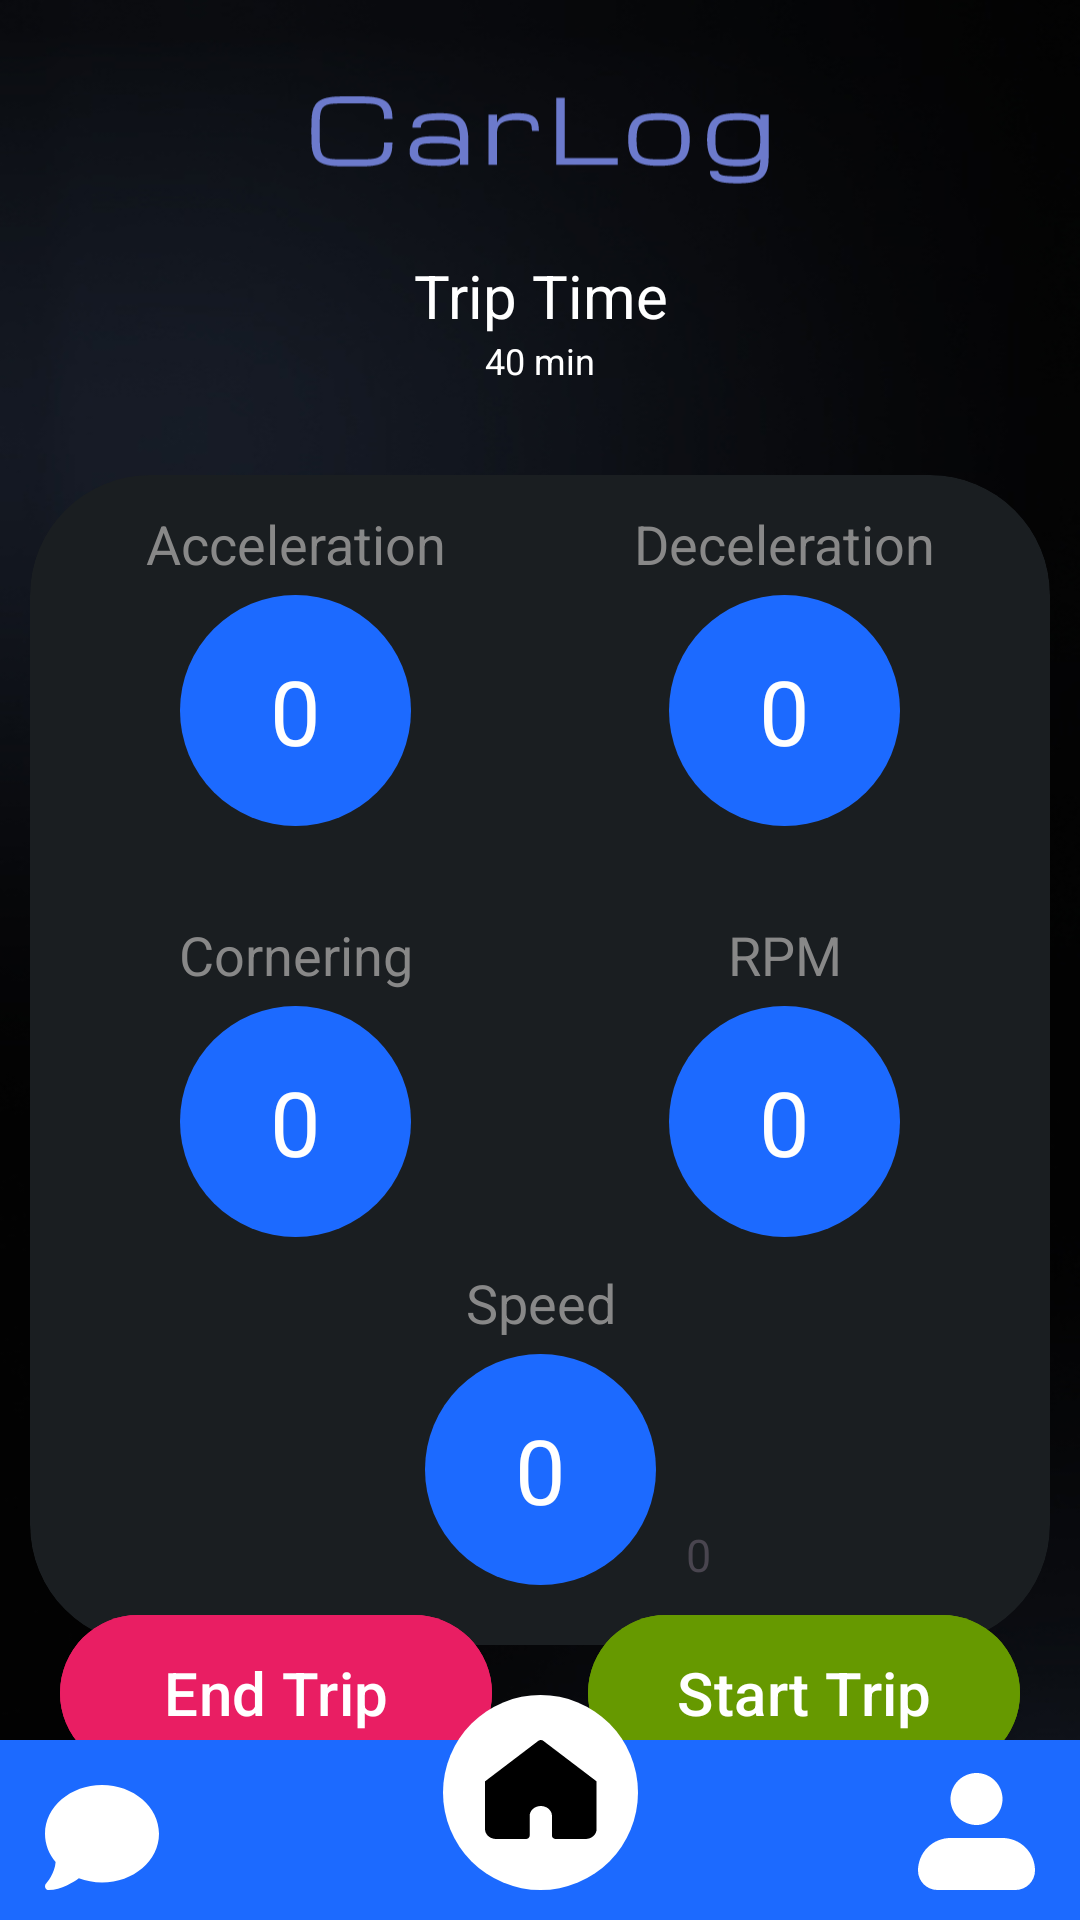

Where to tap for icons on this 1080 × 1920 app screen, as point (x, y):
home clicked: point (540, 1792)
message: point (102, 1837)
person: point (976, 1831)
